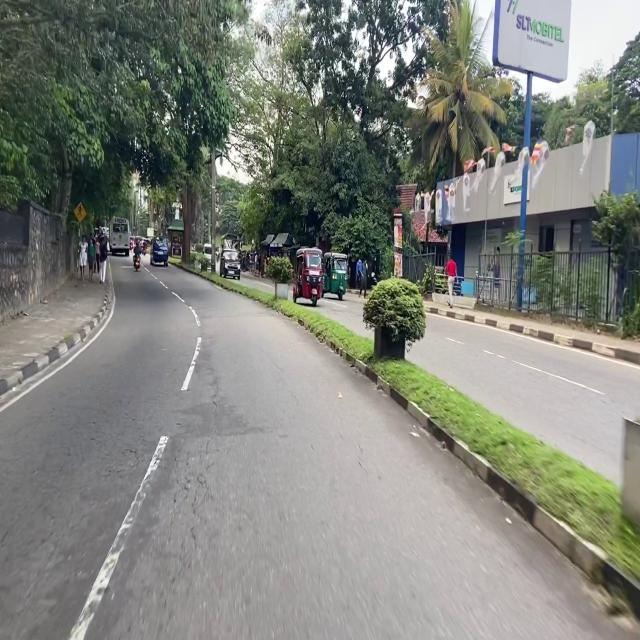bus: (110, 217, 129, 256), (222, 234, 241, 250)
car: (220, 250, 240, 279)
motorcycle: (134, 255, 140, 271)
person: (446, 253, 457, 309), (100, 235, 108, 283), (79, 236, 87, 280), (359, 260, 368, 298), (88, 238, 95, 282), (93, 236, 100, 274), (356, 260, 363, 290), (133, 239, 141, 258), (143, 239, 146, 249)
three wheeler: (293, 247, 321, 306), (322, 253, 347, 300)
van: (150, 237, 167, 266), (204, 243, 211, 265)
